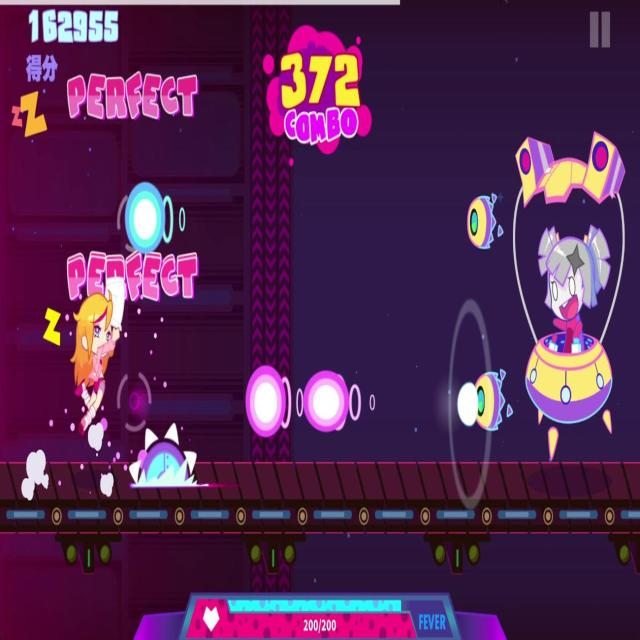ci: (128, 424, 231, 491)
qiangboss: (463, 120, 632, 458)
yuan: (302, 359, 379, 433), (126, 174, 194, 248), (241, 359, 304, 436)
